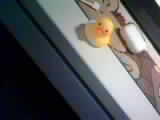duck: (74, 12, 130, 54)
